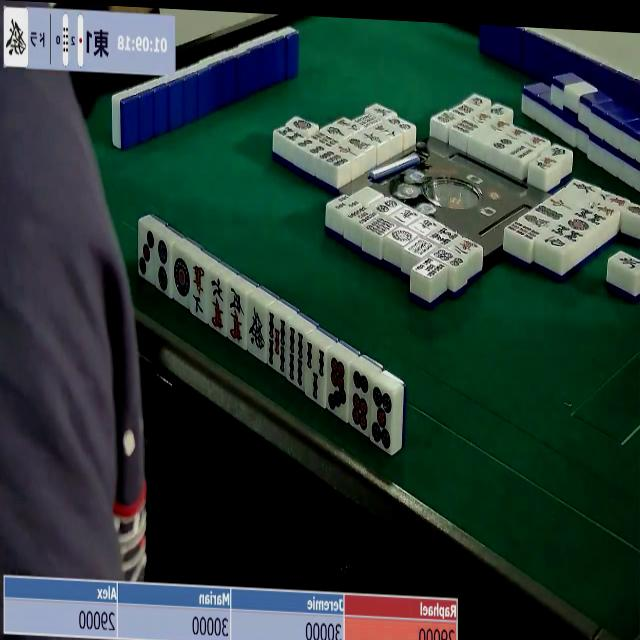fa: (5, 9, 27, 65), (246, 301, 264, 359)
m5: (226, 284, 246, 347)
m6: (207, 274, 226, 333)
m7: (190, 262, 208, 321)
s3: (305, 342, 327, 407)
s4: (286, 327, 304, 391)
s5: (267, 313, 289, 375)
t1: (170, 251, 190, 308)
t2: (153, 235, 171, 296)
t3: (138, 224, 155, 281)
t5: (368, 384, 393, 455)
t6: (347, 370, 372, 437)
t7: (326, 354, 350, 418)
